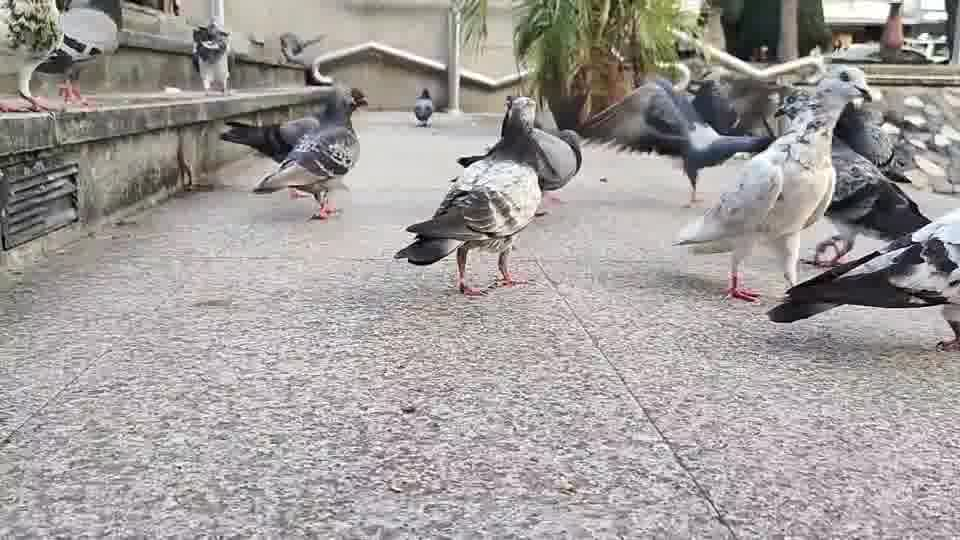Pigeon: (670, 64, 873, 303), (392, 94, 582, 297), (765, 207, 959, 352), (580, 77, 776, 207), (219, 83, 368, 220), (456, 94, 582, 215), (190, 21, 233, 96), (278, 30, 326, 65), (412, 87, 434, 127)
